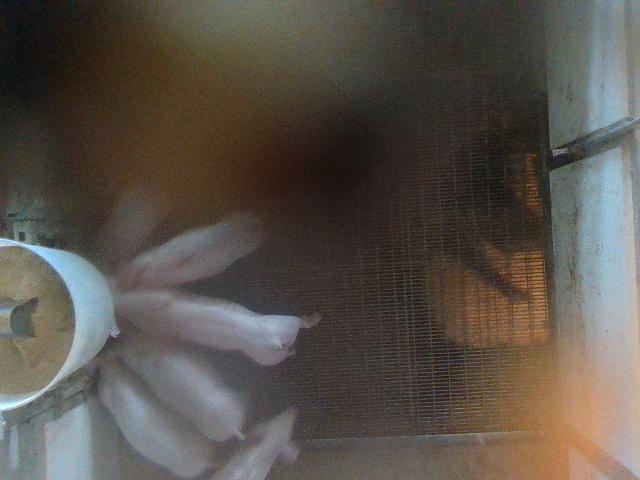pig-1: (116, 212, 265, 291)
